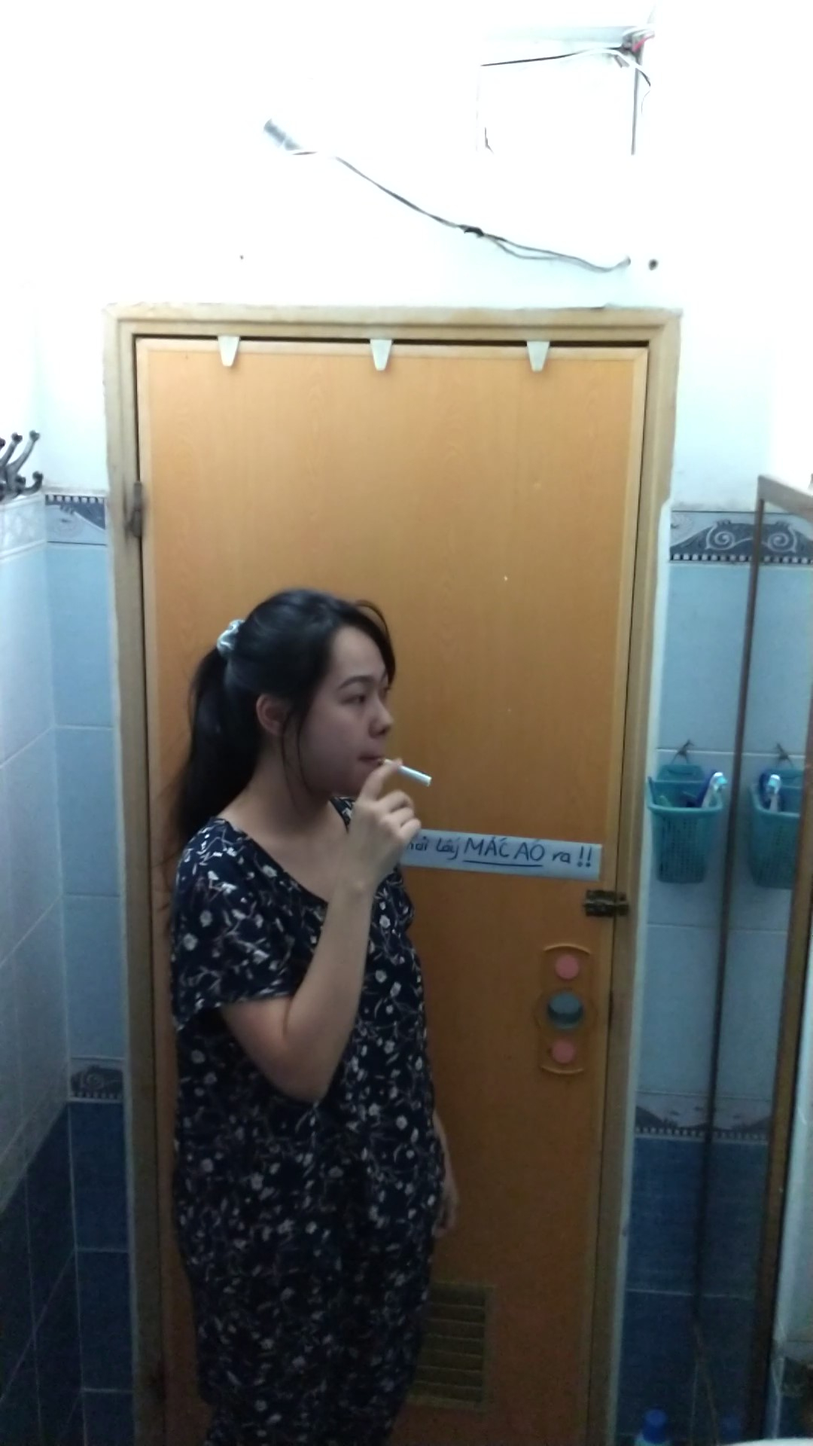cigarette: (398, 758, 438, 793)
person: (163, 592, 460, 1445)
